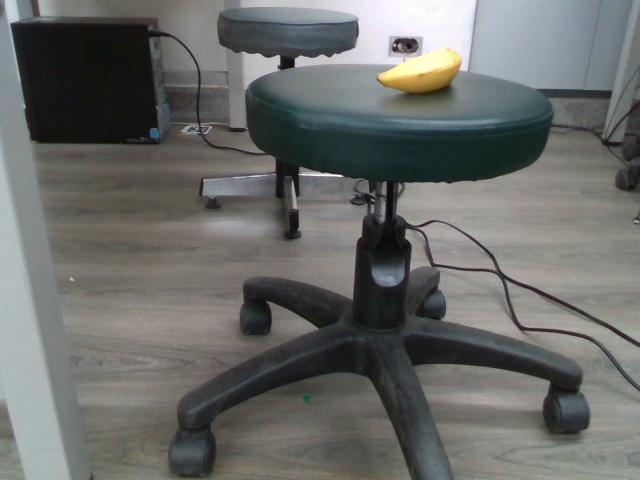banana: (368, 45, 465, 95)
